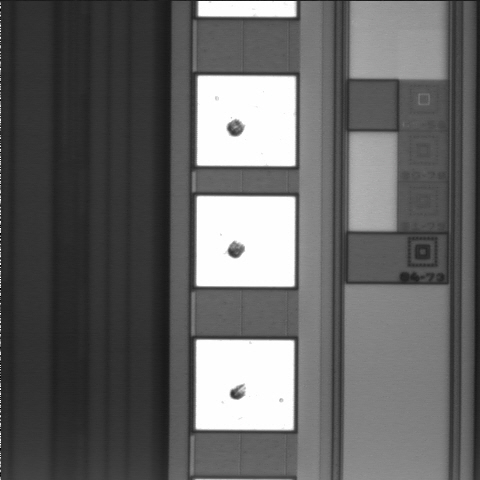pad: (196, 196, 295, 287), (197, 76, 296, 166), (196, 340, 294, 430)
